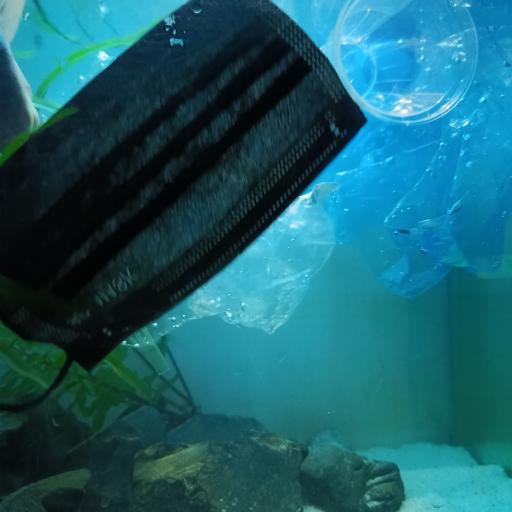mask: (0, 0, 367, 372)
plastic_bag: (79, 47, 337, 357), (334, 0, 512, 302)
plastic_cup: (333, 0, 478, 126)
